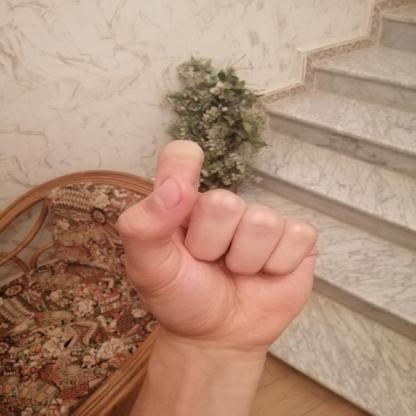FAA: (100, 131, 331, 363)
